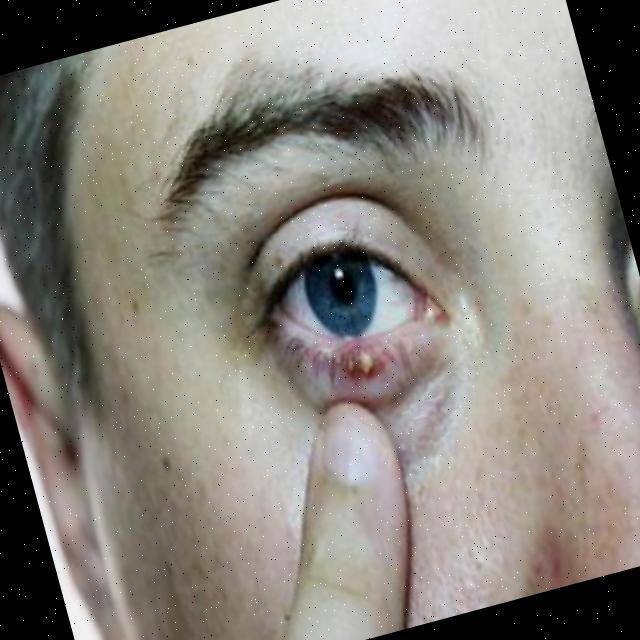Stye: (272, 293, 466, 432)
